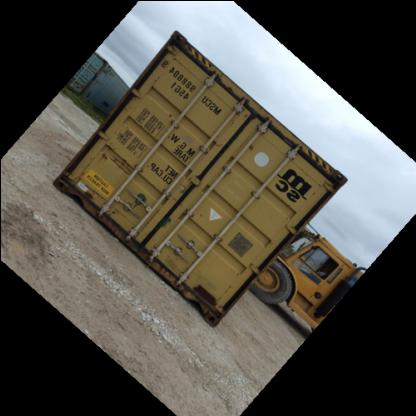Damage: (192, 274, 222, 311), (122, 183, 150, 212), (156, 106, 182, 136), (245, 137, 260, 157)
